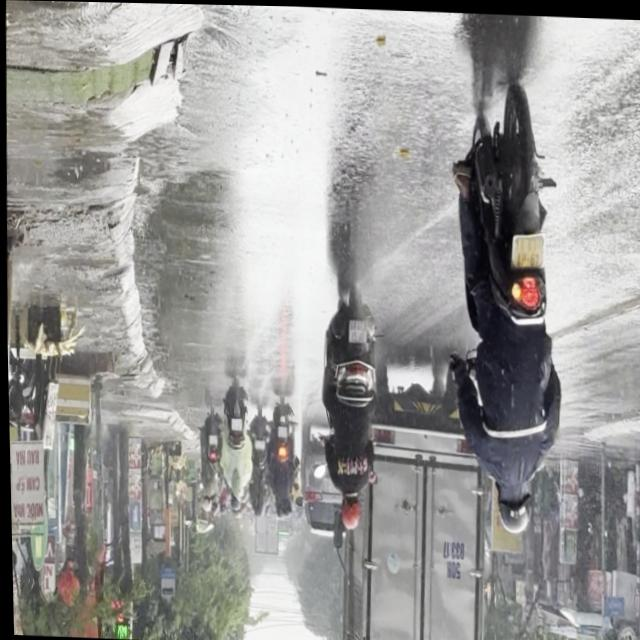helmet: (494, 482, 531, 535), (338, 494, 361, 530)
licenseplate: (440, 28, 573, 540), (314, 275, 382, 534)
nohelmet: (510, 232, 544, 267), (348, 319, 366, 342)
